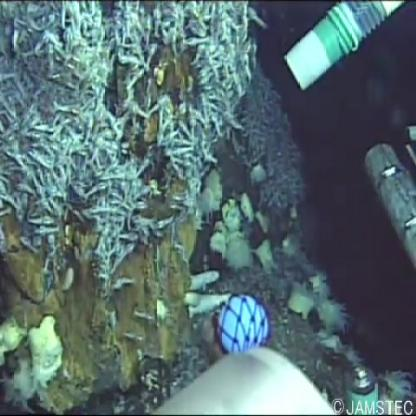Bio: (7, 1, 253, 266), (184, 267, 236, 319)
Rov: (279, 1, 407, 98), (214, 292, 270, 354)
